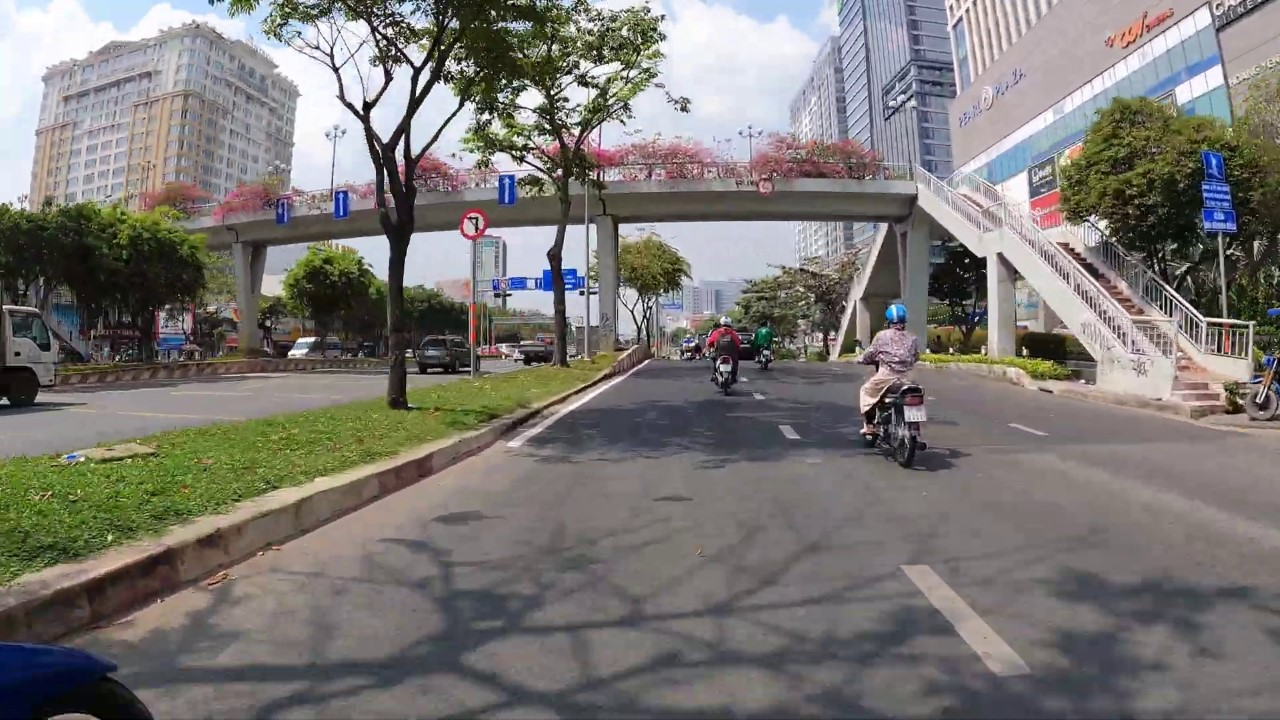cam_re_trai: (459, 208, 488, 240)
